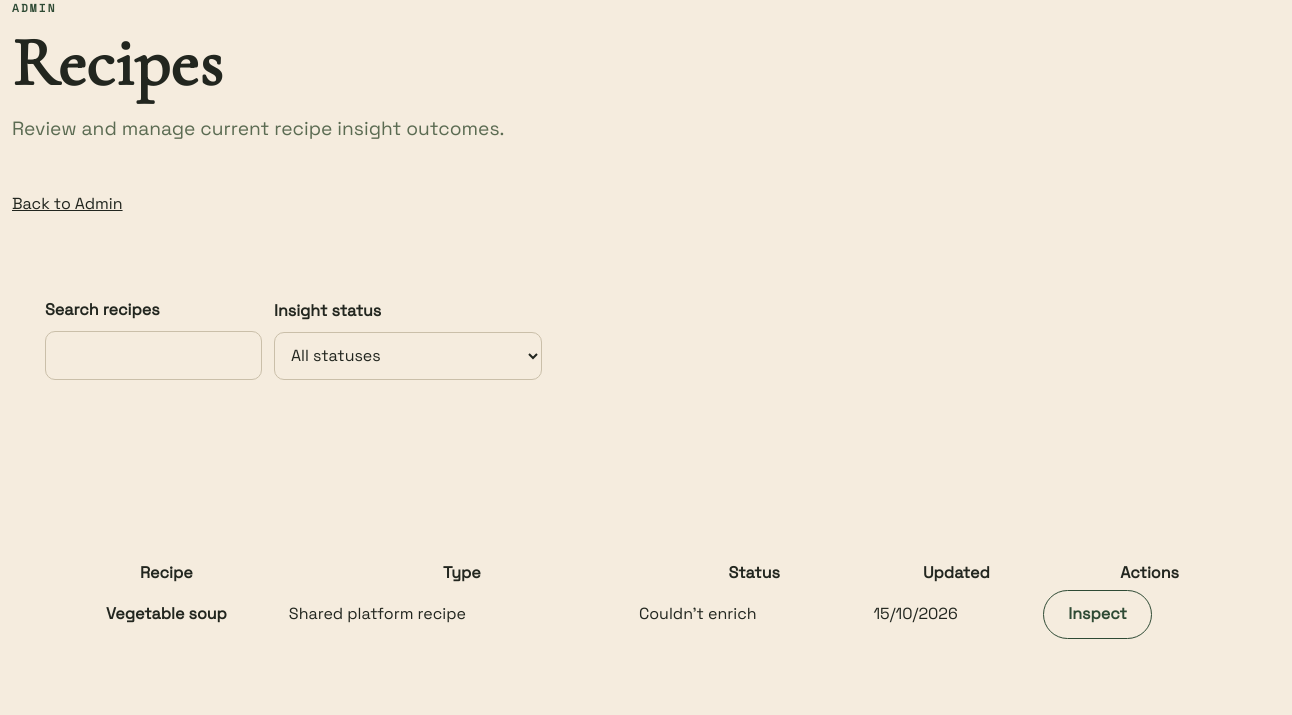
Test: one selected recipe repair › leaves paused settings unchanged
What coordinates should you click on to do the following:
click the button with aria-label "Inspect Vegetable soup"
I would click on:
 (1097, 614)
Its box is [1043,590,1152,639].
(page scrolled)
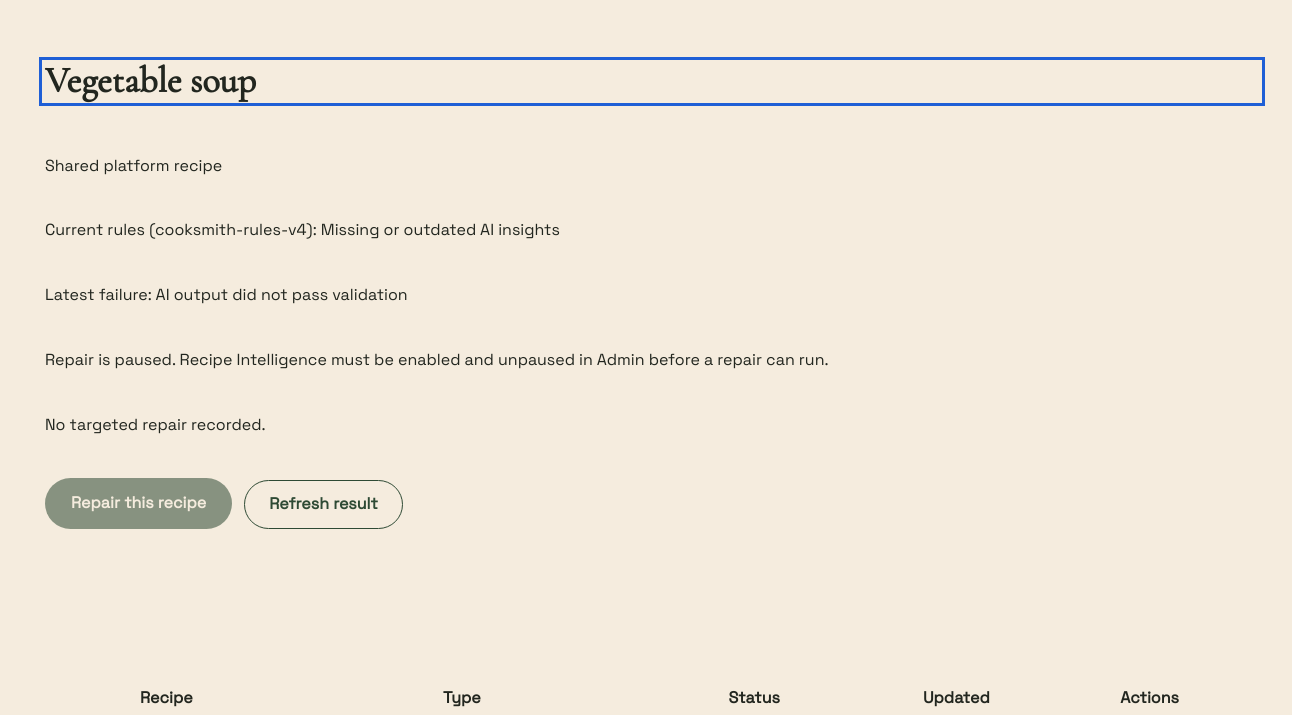
Expected: the button "Repair this recipe" is disabled, [45,478,232,529]
Expected: the text "Repair is paused" is shown, [45,349,828,370]
